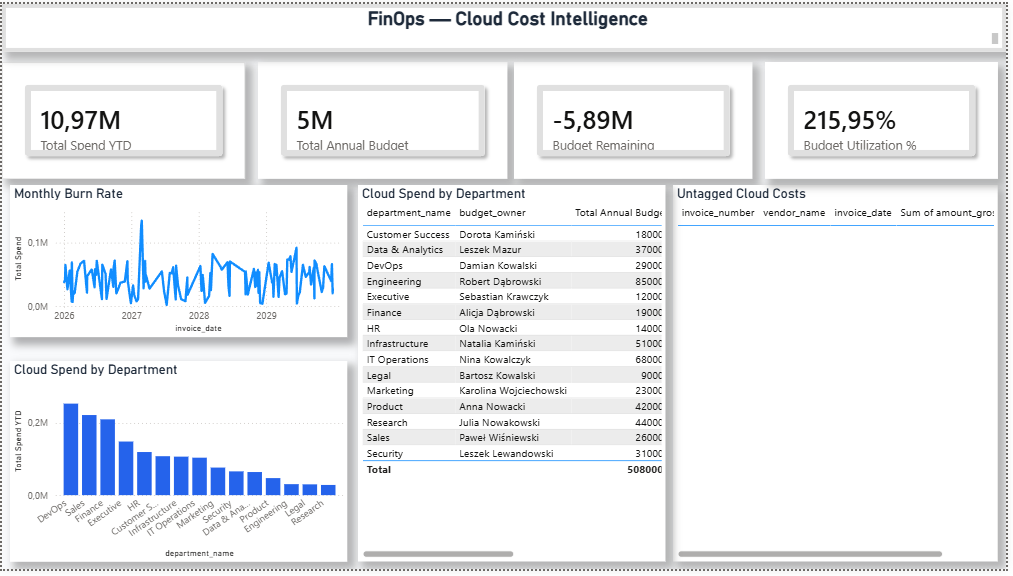

Layout of this report page (visuals, bound fields, positions):
{"tool":"powerbi","page":{"name":"FinOps: Cloud & Budget","canvas":[1280,720],"ordinal":3},"visuals":[{"type":"cardVisual","fields":{"Data":["_Measures.Total Spend YTD"]},"box":[0,74,310,149.1],"z":0},{"type":"cardVisual","fields":{"Data":["_Measures.Total Annual Budget"]},"box":[326.5,74,318.2,149.1],"z":1000},{"type":"cardVisual","fields":{"Data":["_Measures.Budget Remaining"]},"box":[652.9,74,304.1,149.1],"z":2000},{"type":"clusteredColumnChart","title":"Cloud Spend by Department","fields":{"Category":["cost_centers.department_name"],"Y":["_Measures.Total Spend YTD"]},"box":[10,454.6,429.6,256],"z":3000},{"type":"lineChart","title":"Monthly Burn Rate","fields":{"Category":["invoices_main.invoice_date"],"Y":["_Measures.Total Spend"]},"box":[10,231,429.6,193.6],"z":4000},{"type":"tableEx","title":"Untagged Cloud Costs","fields":{"Values":["invoices_main.invoice_number","vendors.vendor_name","invoices_main.invoice_date","Sum(invoices_main.amount_gross)","invoices_main.category"]},"box":[855.3,230.5,414.2,479.7],"z":5000},{"type":"textbox","title":"FinOps — Cloud Cost Intelligence","box":[0,0,1280,60.8],"z":6000},{"type":"cardVisual","fields":{"Data":["_Measures.Budget Utilization %"]},"box":[972.3,74,297.1,149.1],"z":7000},{"type":"tableEx","title":"Cloud Spend by Department","fields":{"Values":["cost_centers.department_name","cost_centers.budget_owner","_Measures.Total Annual Budget","_Measures.Total Spend YTD","_Measures.Budget Remaining","_Measures.Budget Utilization %"]},"box":[453.3,231,392.1,479.5],"z":8000}]}

Visuals, with their boxes in screenshot pixels (x1, y1, x2, y2), scaled from the page's 1280x720 canvas onto the 1013x576 screenshot:
cardVisual - _Measures.Total Spend YTD: pyautogui.locateOnScreen(0, 59, 245, 178)
cardVisual - _Measures.Total Annual Budget: pyautogui.locateOnScreen(258, 59, 510, 178)
cardVisual - _Measures.Budget Remaining: pyautogui.locateOnScreen(517, 59, 757, 178)
"Cloud Spend by Department" clusteredColumnChart: pyautogui.locateOnScreen(8, 364, 348, 568)
"Monthly Burn Rate" lineChart: pyautogui.locateOnScreen(8, 185, 348, 340)
"Untagged Cloud Costs" tableEx: pyautogui.locateOnScreen(677, 184, 1005, 568)
"FinOps — Cloud Cost Intelligence" textbox: pyautogui.locateOnScreen(0, 0, 1012, 49)
cardVisual - _Measures.Budget Utilization %: pyautogui.locateOnScreen(769, 59, 1005, 178)
"Cloud Spend by Department" tableEx: pyautogui.locateOnScreen(359, 185, 669, 568)
